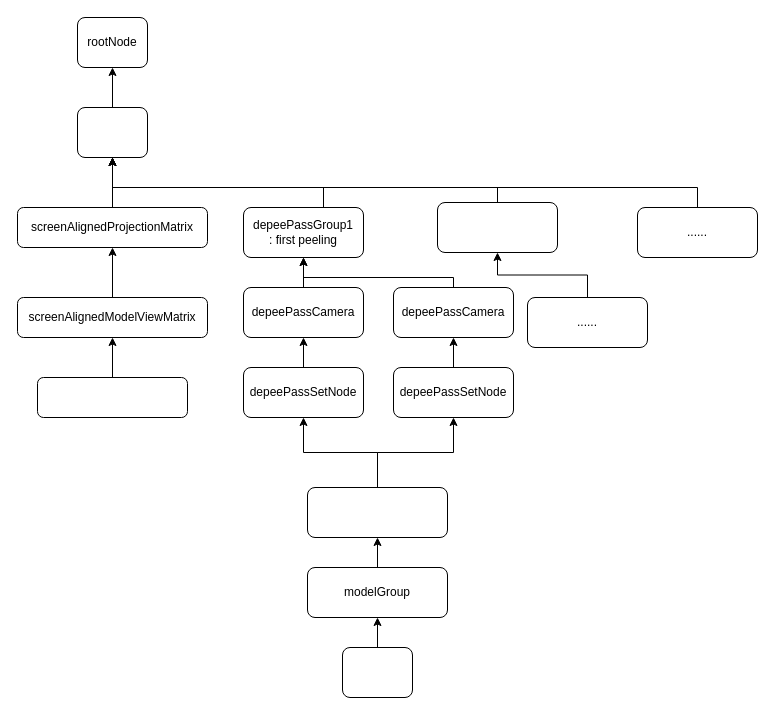
Image size: 775x715. Some labels were removed from this diagram. The box of each missing label's shape, as (x1, y1, x2, y2) in pixels:
CanvasQuadGeode: (36, 376, 188, 418)
depeeParent: (76, 106, 148, 158)
depeePassGroup2 : second peeling: (436, 202, 558, 252)
matrixTransform: (306, 486, 448, 538)
Model: (342, 646, 412, 698)
